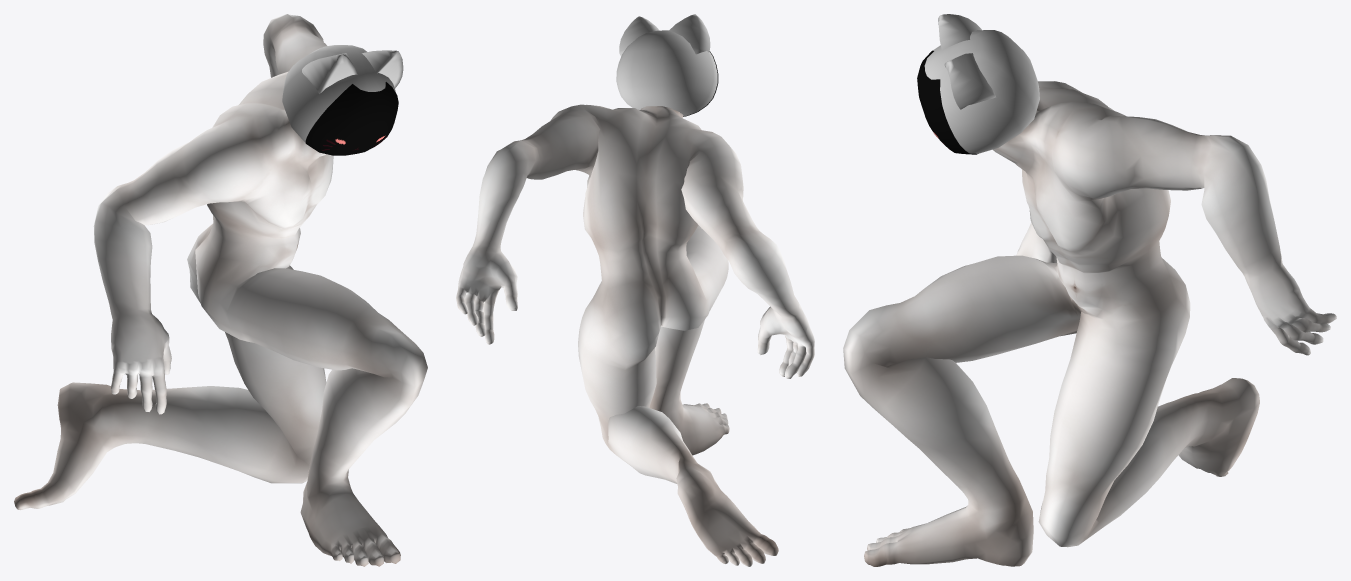
3 renders of one model, left to right at view 1: azimuth 30°, elevation 25°; view 2: azimuth 150°, elevation 25°; view 3: azimuth 270°, elevation 25°, orthographic. The views are drawn at different scales.
Visible parts, largest first — view 1: Muscle_Body, Cat_Head, ______?001; view 2: Muscle_Body, Cat_Head; view 3: Muscle_Body, Cat_Head, ______?001.
Part boxes in pixels (x1=…): Muscle_Body: x1=14, y1=14, x2=427, y2=566; Cat_Head: x1=282, y1=45, x2=403, y2=142; ______?001: x1=305, y1=82, x2=398, y2=155; Muscle_Body: x1=456, y1=104, x2=814, y2=566; Cat_Head: x1=616, y1=14, x2=717, y2=116; Muscle_Body: x1=843, y1=81, x2=1336, y2=566; Cat_Head: x1=924, y1=14, x2=1039, y2=153; ______?001: x1=917, y1=50, x2=977, y2=154.
Bounding box in the file's own units: 13.15 × 19.6 × 15.98.
